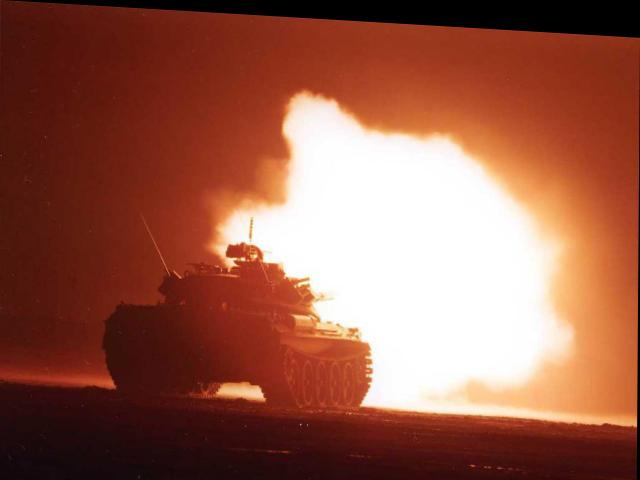tank: (104, 222, 376, 408)
